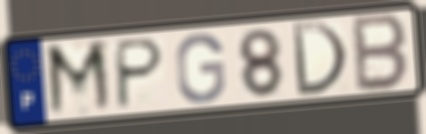8: (234, 27, 286, 99)
B: (351, 11, 410, 95)
D: (288, 19, 351, 99)
G: (173, 30, 228, 106)
M: (43, 37, 117, 120)
P: (114, 36, 167, 113)
